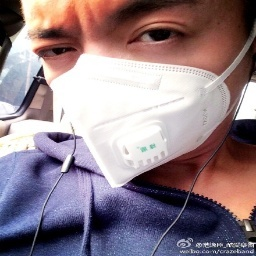correctlyWear: (26, 1, 256, 189)
